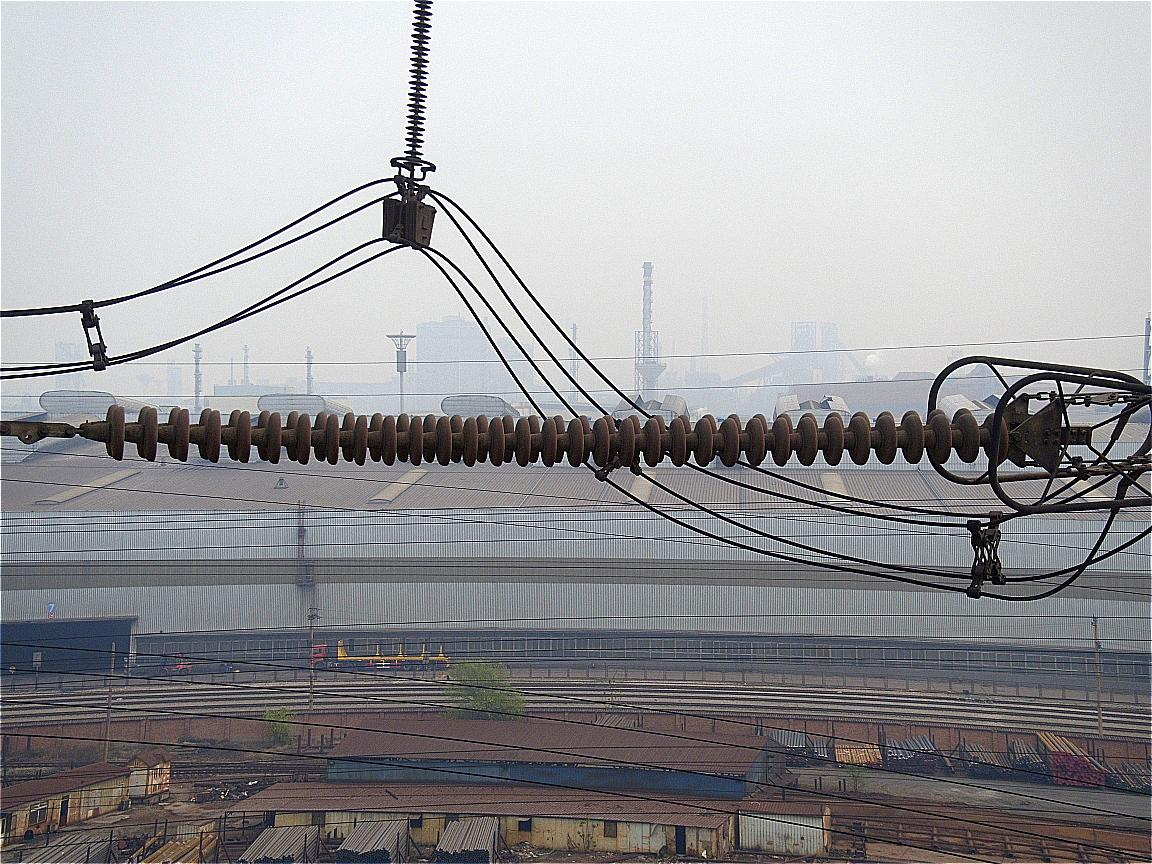insultor1: (98, 402, 1016, 466)
insultor2: (400, 1, 439, 160)
